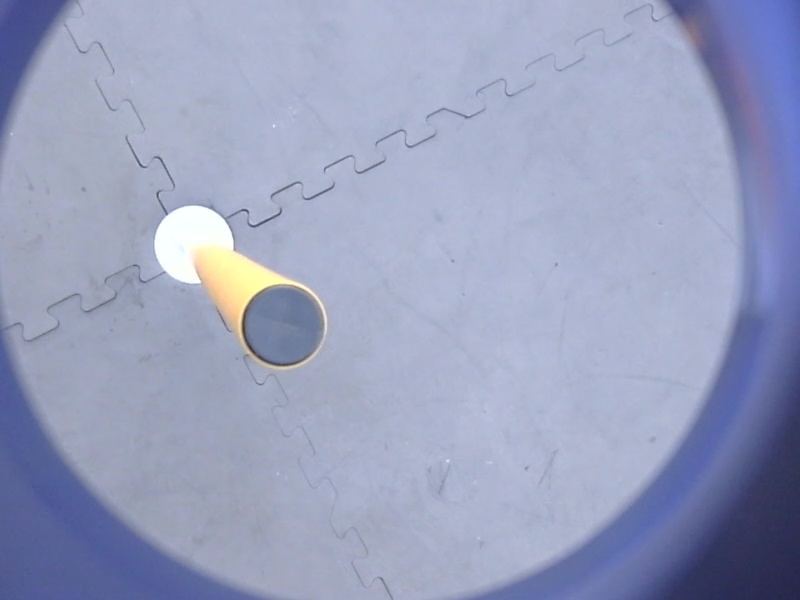tip: (233, 277, 334, 377)
